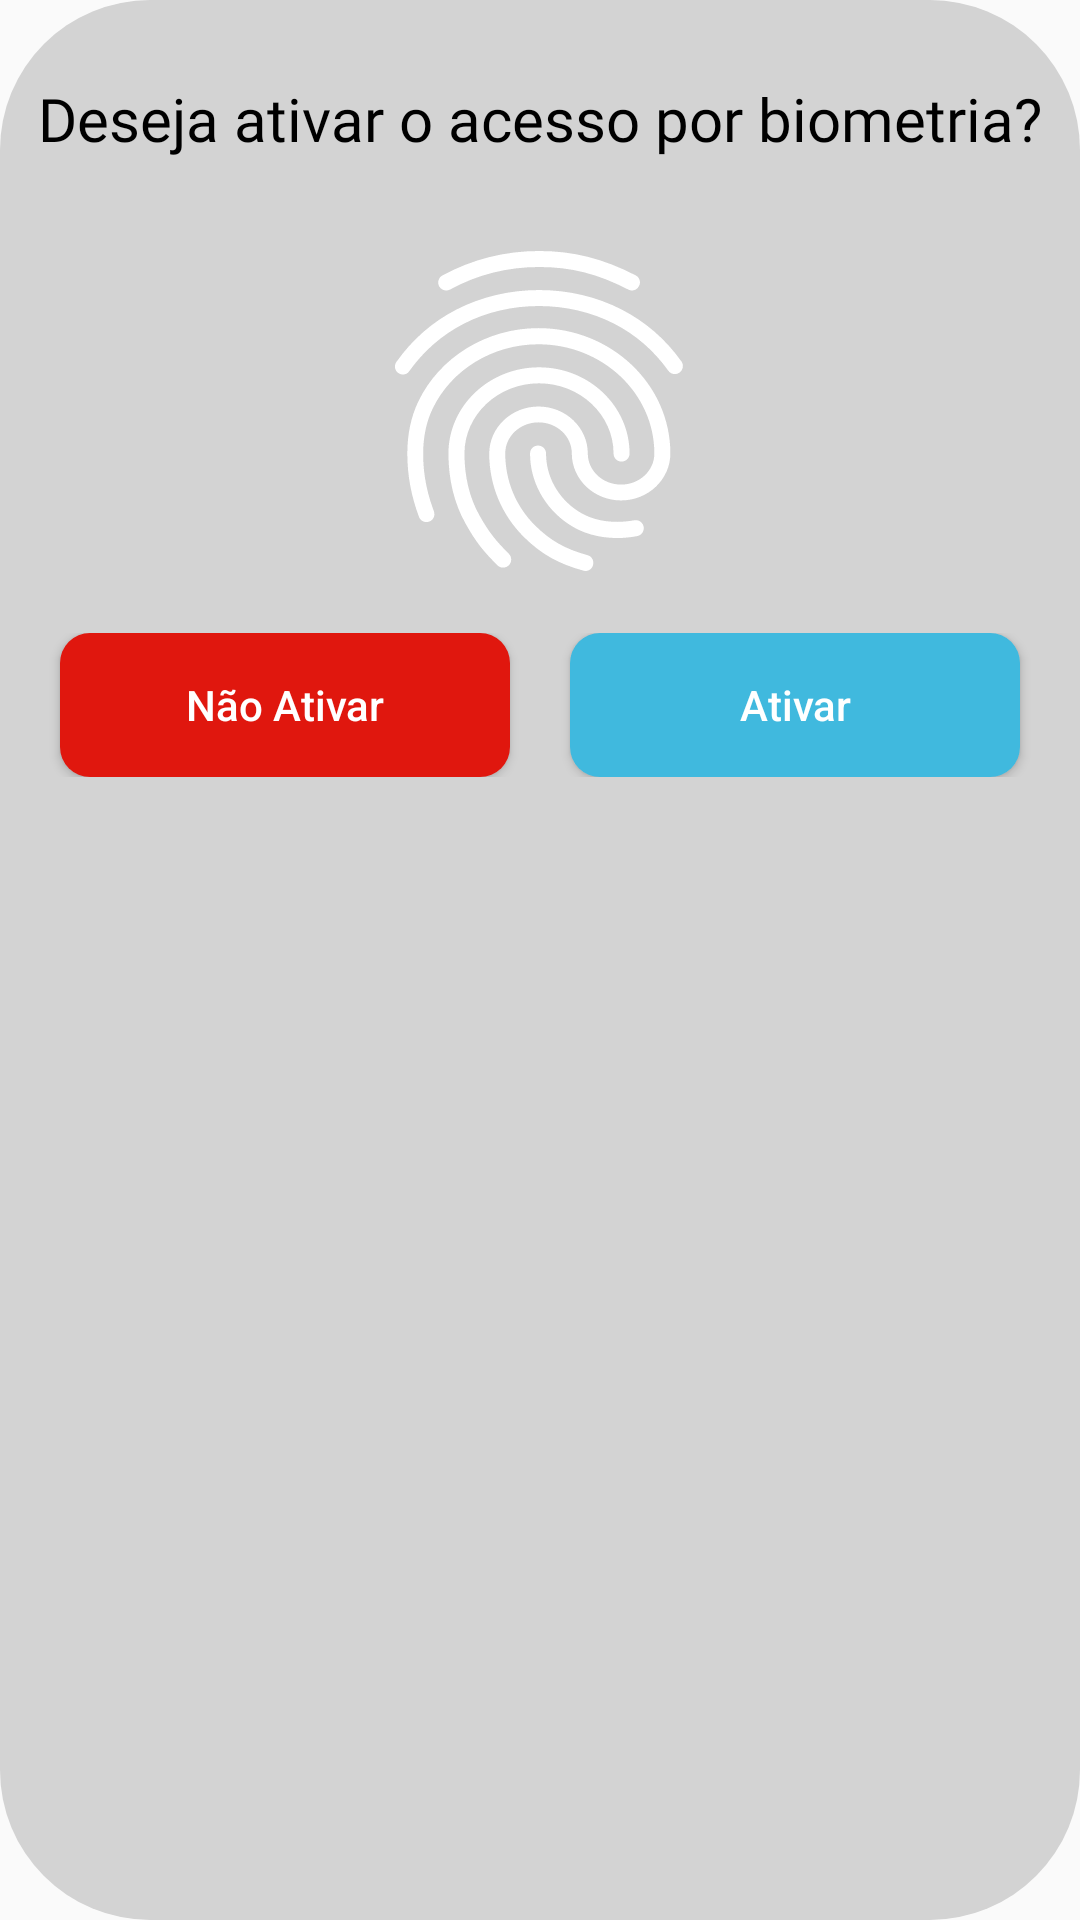

Point at icon controls on the screen. Image size 1080px×1920px, points as (x,y).
fingerprint: (539,411)
